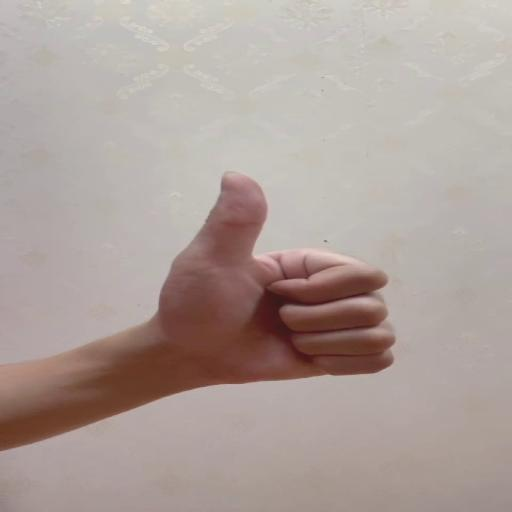thumbs_up: (164, 168, 398, 383)
